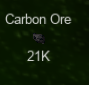Carbon: (4, 11, 73, 63)
